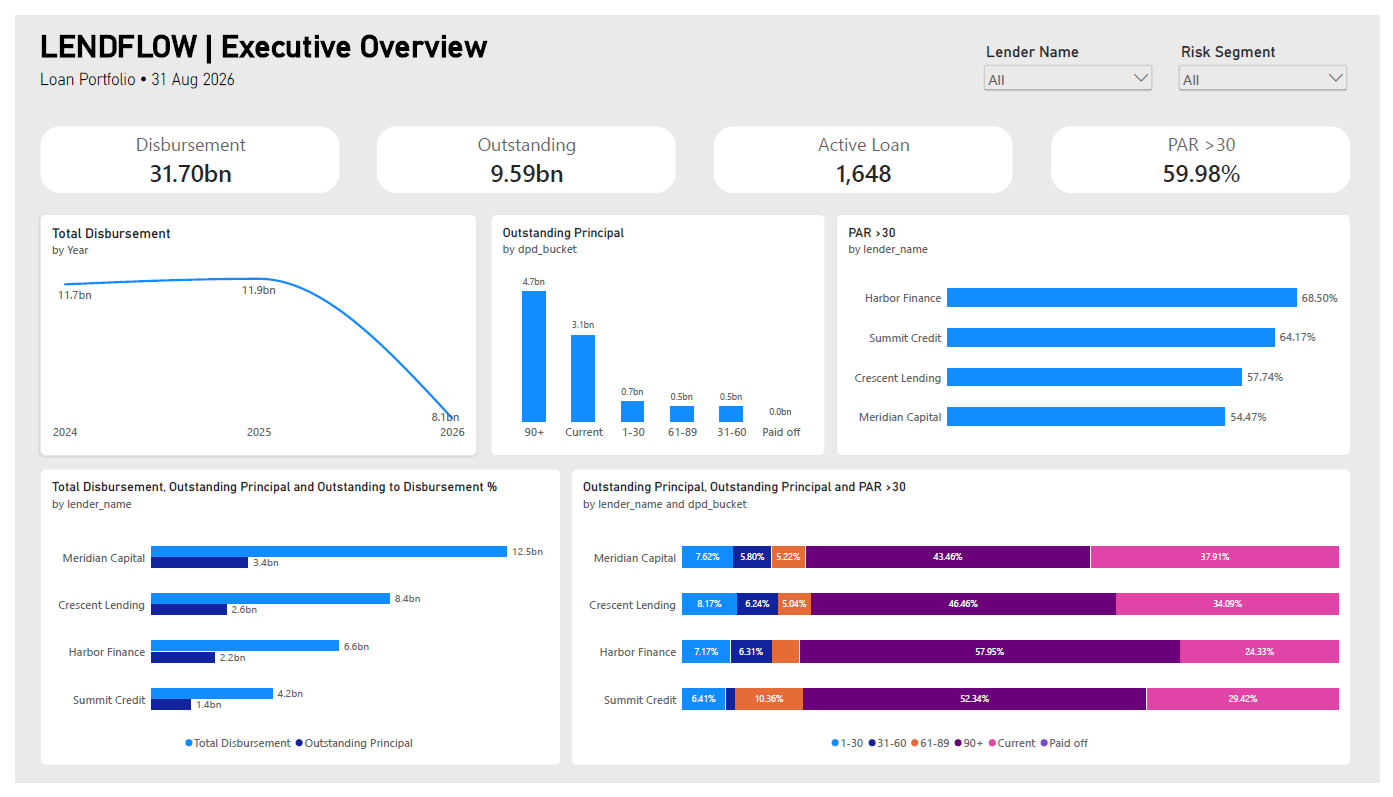

This screenshot's page, from the dashboard's own definition file:
{"tool":"powerbi","page":{"name":"Executive Overview","canvas":[1920,1080],"ordinal":0},"visuals":[{"type":"cardVisual","title":"Disbursement","fields":{"Data":["Loan Snapshot.Total Disbursement"]},"box":[35,156.4,422,94.7],"z":0},{"type":"lineChart","fields":{"Category":["Loan Snapshot.disbursement_month.Variation.Date Hierarchy.Year","Loan Snapshot.disbursement_month.Variation.Date Hierarchy.Quarter","Loan Snapshot.disbursement_month.Variation.Date Hierarchy.Month","Loan Snapshot.disbursement_month.Variation.Date Hierarchy.Day"],"Y":["Loan Snapshot.Total Disbursement"]},"box":[35,279.9,615.4,339.6],"z":1000},{"type":"clusteredColumnChart","fields":{"Category":["Loan Snapshot.dpd_bucket"],"Y":["Loan Snapshot.Outstanding Principal"]},"box":[669,279.9,471.4,339.6],"z":2000},{"type":"clusteredBarChart","fields":{"Category":["Loan Snapshot.lender_name"],"Y":["Loan Snapshot.PAR >30"]},"box":[1154.7,279.9,724.5,339.6],"z":3000},{"type":"slicer","fields":{"Values":["Loan Snapshot.lender_name"]},"box":[1358.5,39.1,247,72],"z":4000},{"type":"textbox","box":[35,18.5,664.8,72],"z":5000},{"type":"cardVisual","title":"Total ","fields":{"Data":["Loan Snapshot.Outstanding Principal"]},"box":[508.4,156.4,422,94.7],"z":6000},{"type":"cardVisual","title":"Total ","fields":{"Data":["Loan Snapshot.Active Loans Display"]},"box":[981.8,156.4,422,94.7],"z":7000},{"type":"cardVisual","title":"Total ","fields":{"Data":["Loan Snapshot.PAR >30"]},"box":[1457.3,156.4,422,94.7],"z":8000},{"type":"hundredPercentStackedBarChart","fields":{"Category":["Loan Snapshot.lender_name"],"Series":["Loan Snapshot.dpd_bucket"],"Y":["Loan Snapshot.Outstanding Principal"]},"box":[782.2,638.1,1097.1,417.8],"z":9000},{"type":"textbox","box":[35,76.2,664.8,43.2],"z":10000},{"type":"slicer","fields":{"Values":["Loan Snapshot.risk_segment"]},"box":[1632.3,39.1,247,72],"z":11000},{"type":"clusteredBarChart","fields":{"Category":["Loan Snapshot.lender_name"],"Y":["Loan Snapshot.Total Disbursement","Loan Snapshot.Outstanding Principal"]},"box":[35,638.1,732.8,417.8],"z":13000}]}

Visuals, with their boxes in screenshot pixels (x1, y1, x2, y2), scaled from the page's 1920x1080 canvas onto the 1393x797 screenshot:
"Disbursement" cardVisual: Rect(25, 115, 332, 185)
lineChart - Loan Snapshot.disbursement_month.Variation.Date Hierarchy.Year x Loan Snapshot.disbursement_month.Variation.Date Hierarchy.Quarter: Rect(25, 207, 472, 457)
clusteredColumnChart - Loan Snapshot.dpd_bucket x Loan Snapshot.Outstanding Principal: Rect(485, 207, 827, 457)
clusteredBarChart - Loan Snapshot.lender_name x Loan Snapshot.PAR >30: Rect(838, 207, 1363, 457)
slicer - Loan Snapshot.lender_name: Rect(986, 29, 1165, 82)
textbox: Rect(25, 14, 508, 67)
"Total " cardVisual: Rect(369, 115, 675, 185)
"Total " cardVisual: Rect(712, 115, 1018, 185)
"Total " cardVisual: Rect(1057, 115, 1363, 185)
hundredPercentStackedBarChart - Loan Snapshot.lender_name x Loan Snapshot.dpd_bucket: Rect(568, 471, 1363, 779)
textbox: Rect(25, 56, 508, 88)
slicer - Loan Snapshot.risk_segment: Rect(1184, 29, 1363, 82)
clusteredBarChart - Loan Snapshot.lender_name x Loan Snapshot.Total Disbursement: Rect(25, 471, 557, 779)
